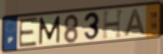3: (83, 11, 102, 42)
8: (63, 13, 80, 45)
A: (123, 8, 146, 38)
E: (18, 16, 39, 48)
H: (102, 8, 126, 41)
M: (38, 14, 61, 46)
